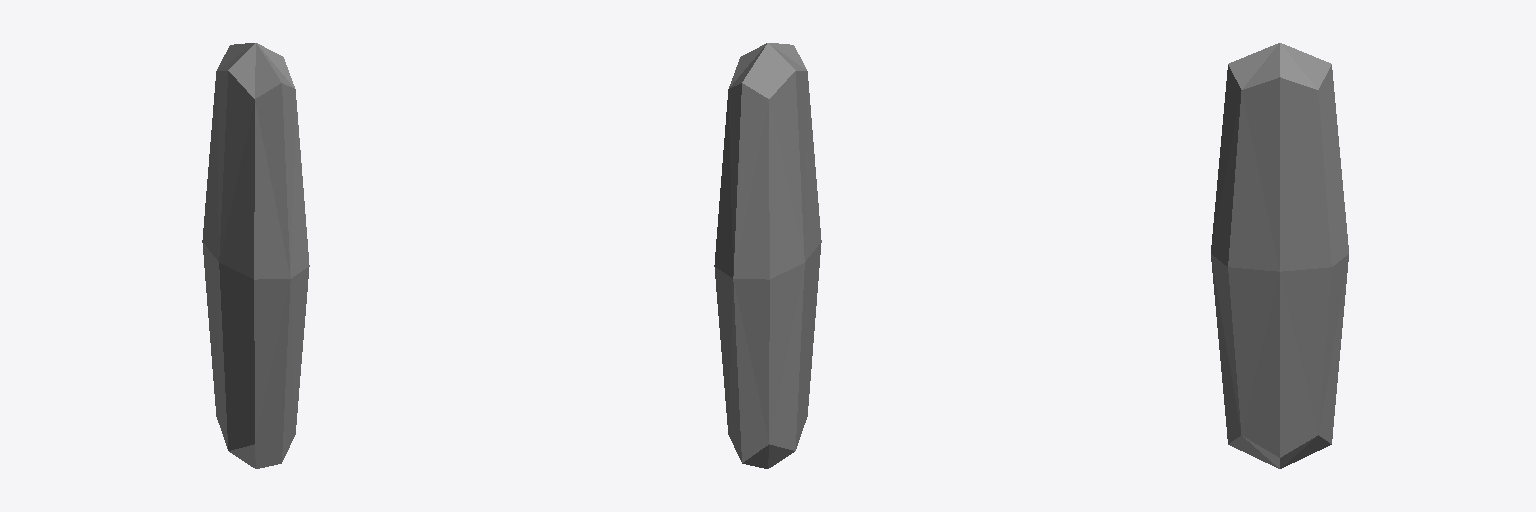
Rendered from hpGreen.obj.
3 views of the same model, side by side, from view 1: azimuth 30°, elevation 25°; view 2: azimuth 150°, elevation 25°; view 3: azimuth 270°, elevation 25° (orthographic).
Visible parts, largest first — view 1: Box002; view 2: Box002; view 3: Box002.
Part boxes in pixels (x1,y1,x2,y2): Box002: (202, 43, 309, 468); Box002: (714, 43, 821, 468); Box002: (1211, 43, 1348, 468).
Bounding box in the file's own units: 4.16 × 23.01 × 6.77.